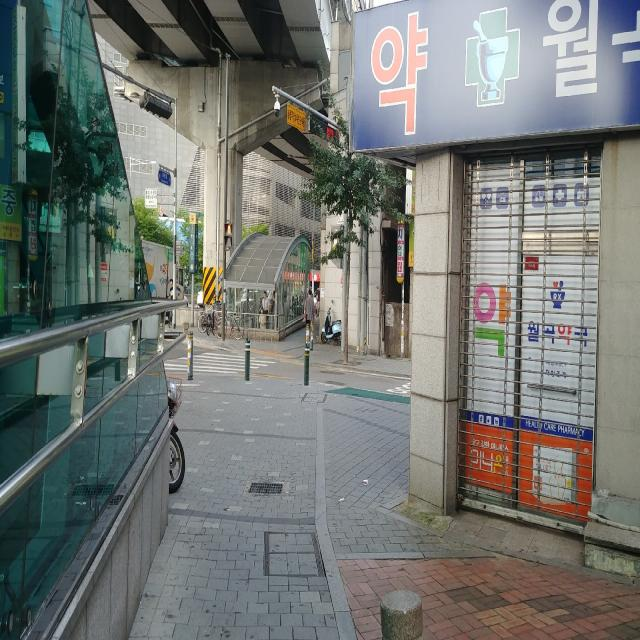횡단보도: (164, 352, 278, 374)
